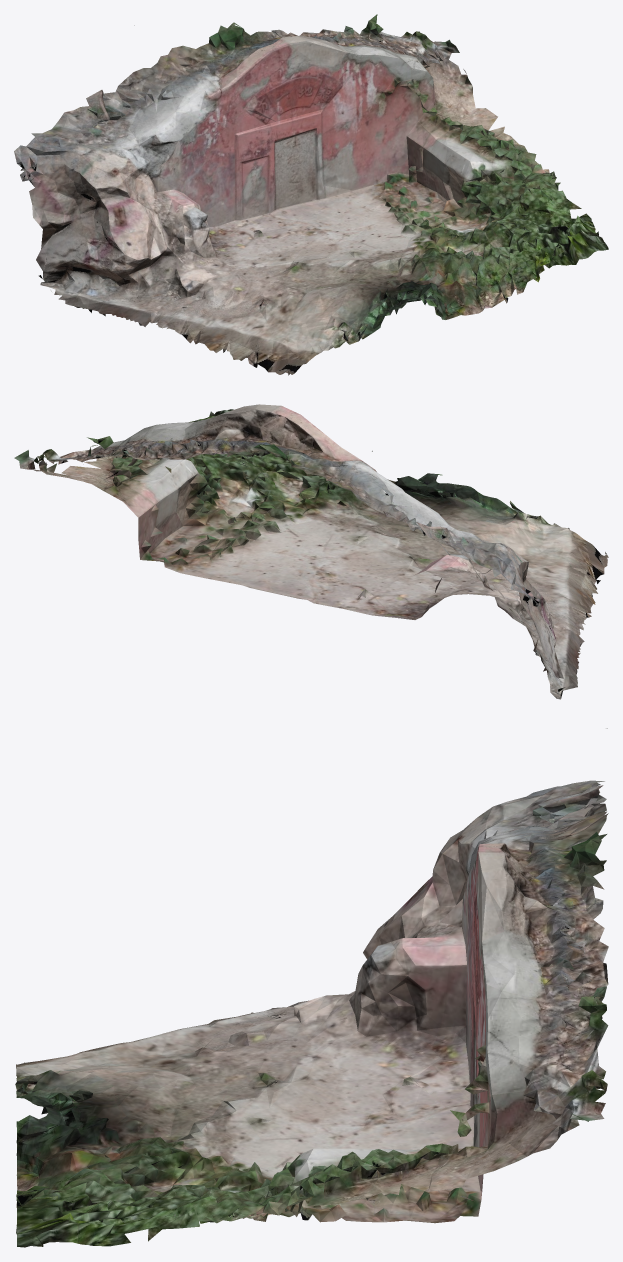
Rendered from tryone.glb.
The picture shows the model from 3 angles, top to bottom: view 1: azimuth 30°, elevation 25°; view 2: azimuth 150°, elevation 25°; view 3: azimuth 270°, elevation 25°; orthographic projection. The views are drawn at different scales.
Visible parts, largest first — view 1: Mesh_0; view 2: Mesh_0; view 3: Mesh_0.
Boxes of the visible parts, x1,y1,x2,y2 form: Mesh_0: (14,14,608,375); Mesh_0: (14,404,608,699); Mesh_0: (15,728,608,1247).
Bounding box in the file's own units: 3.02 × 1.45 × 2.14.
Materials: 1 (1 with a texture image).
